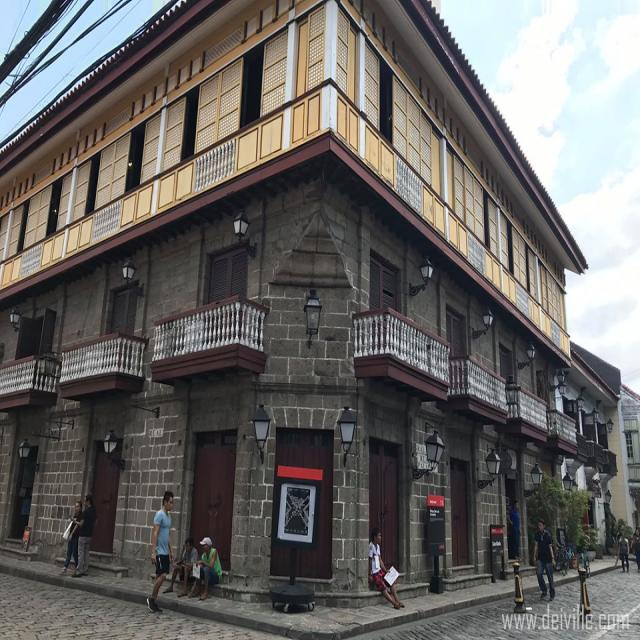Casa Manila: (0, 0, 623, 640)
